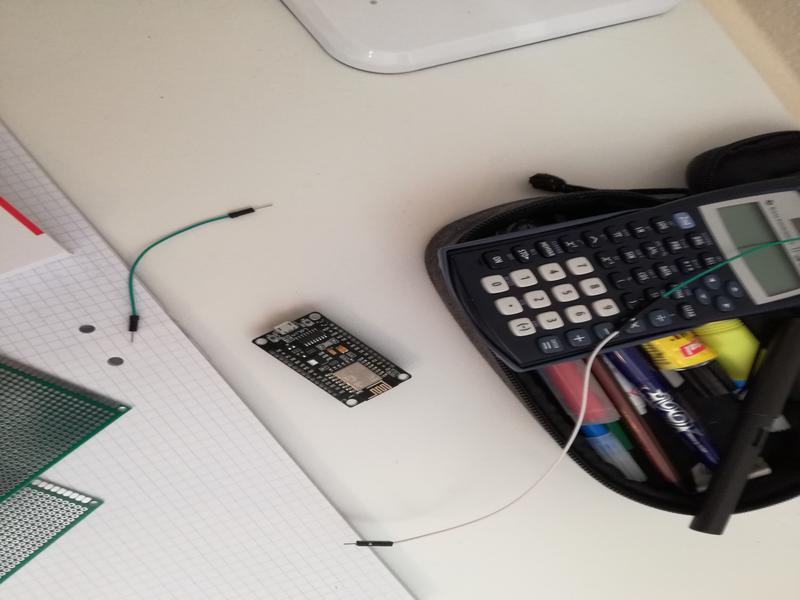ESP8266: (240, 307, 419, 411)
